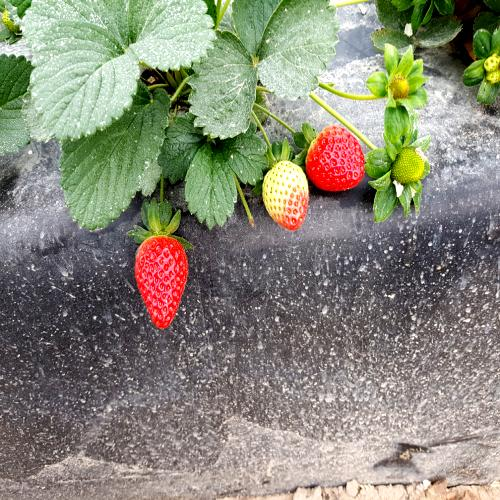ripe: (130, 227, 191, 330), (304, 112, 368, 205)
